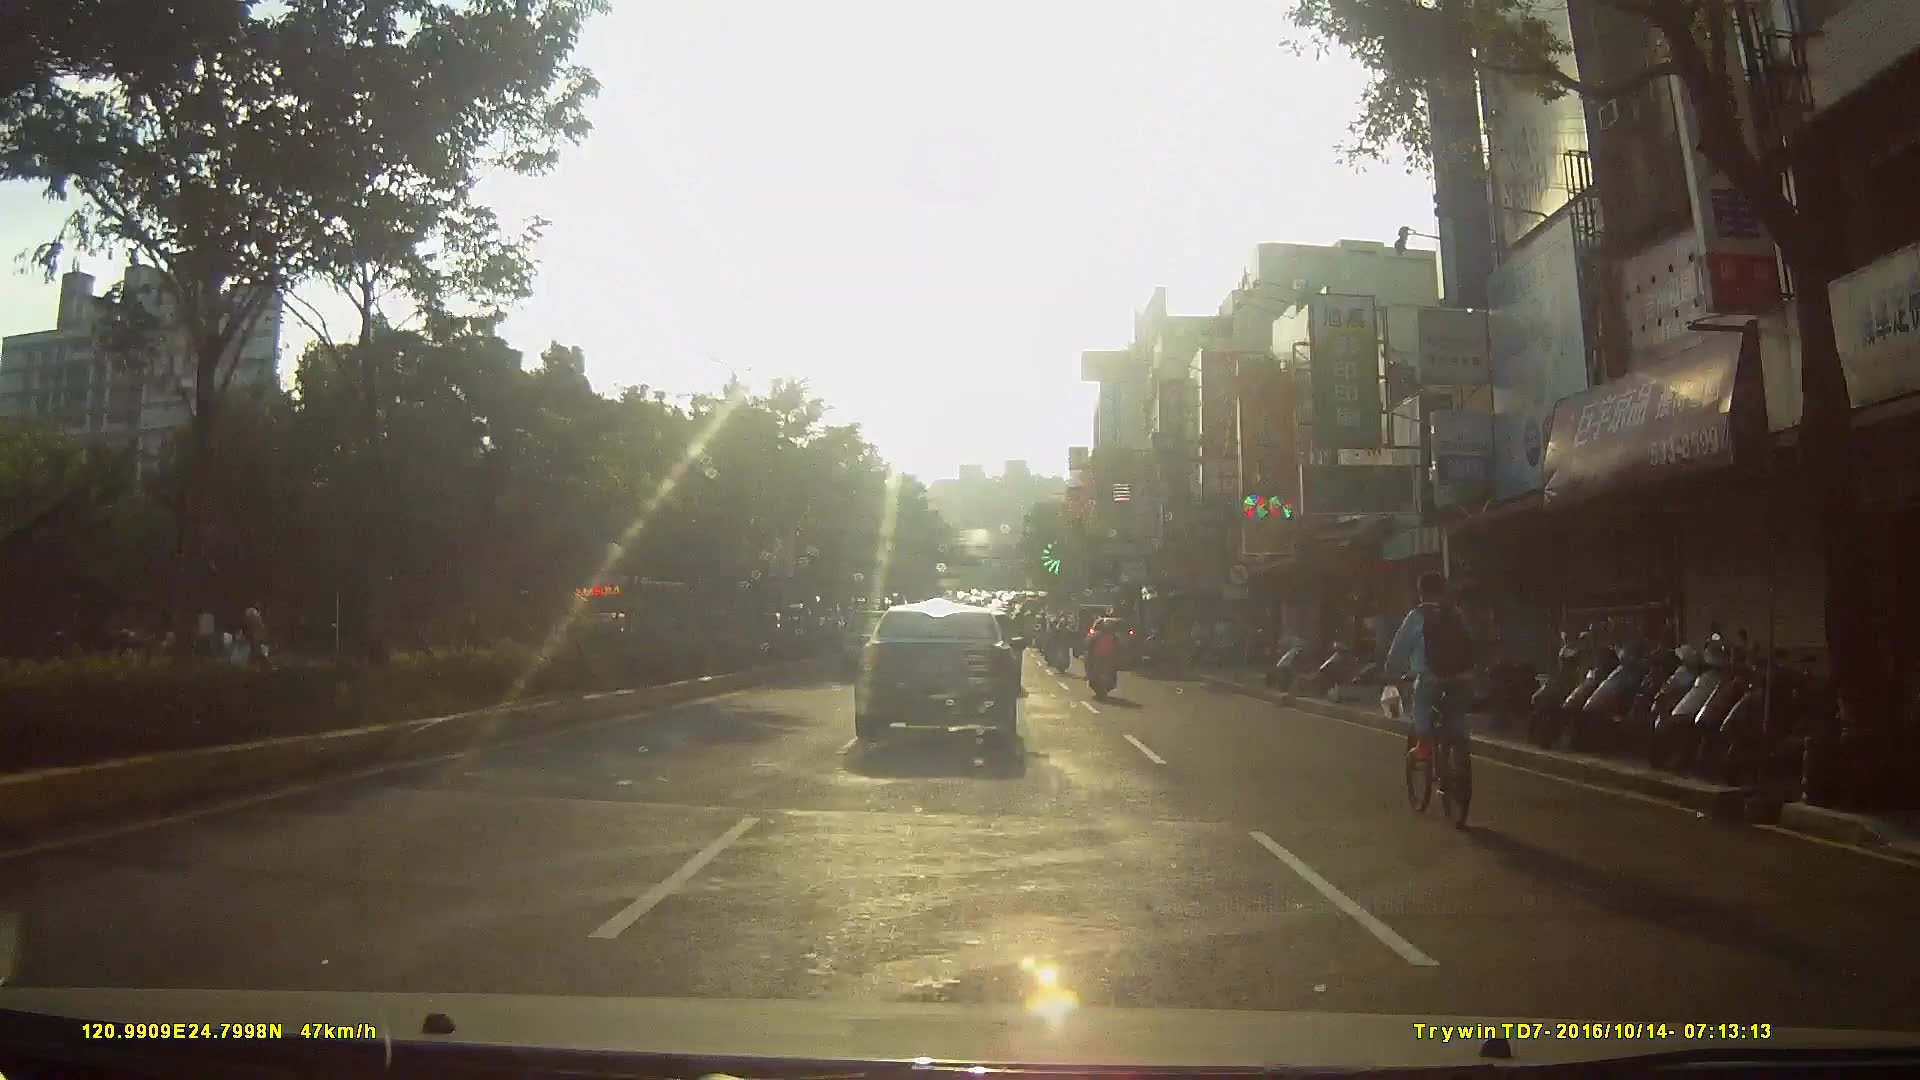rider: (1383, 569, 1480, 828), (225, 607, 272, 683), (1083, 622, 1121, 711), (1046, 617, 1074, 675)
vehicle: (850, 600, 1035, 767), (1080, 612, 1146, 669)
